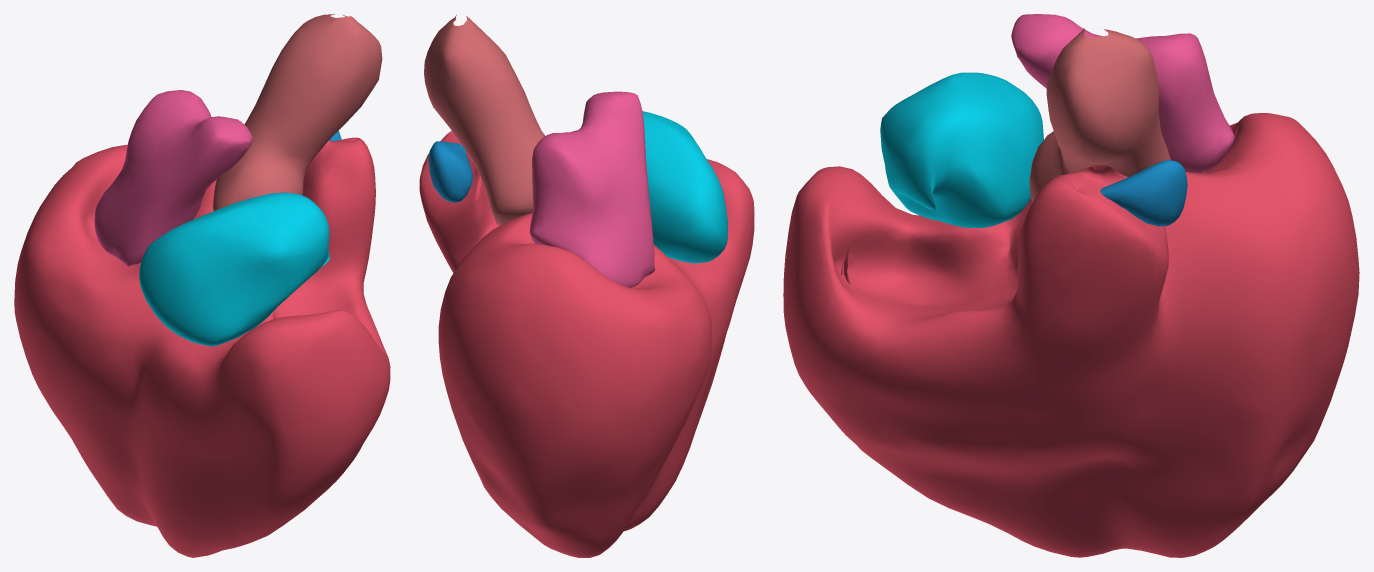
File: frame_63.glb
3 views of the same model, side by side, from view 1: azimuth 30°, elevation 25°; view 2: azimuth 150°, elevation 25°; view 3: azimuth 270°, elevation 25° (orthographic). The views are drawn at different scales.
Parts seen in each view (by area): view 1: Renderer Node; view 2: Renderer Node; view 3: Renderer Node.
Boxes of the visible parts, x1,y1,x2,y2 form: Renderer Node: (14, 14, 390, 557); Renderer Node: (419, 15, 754, 557); Renderer Node: (783, 14, 1359, 557).
Bounding box in the file's own units: 105 × 162 × 136.
